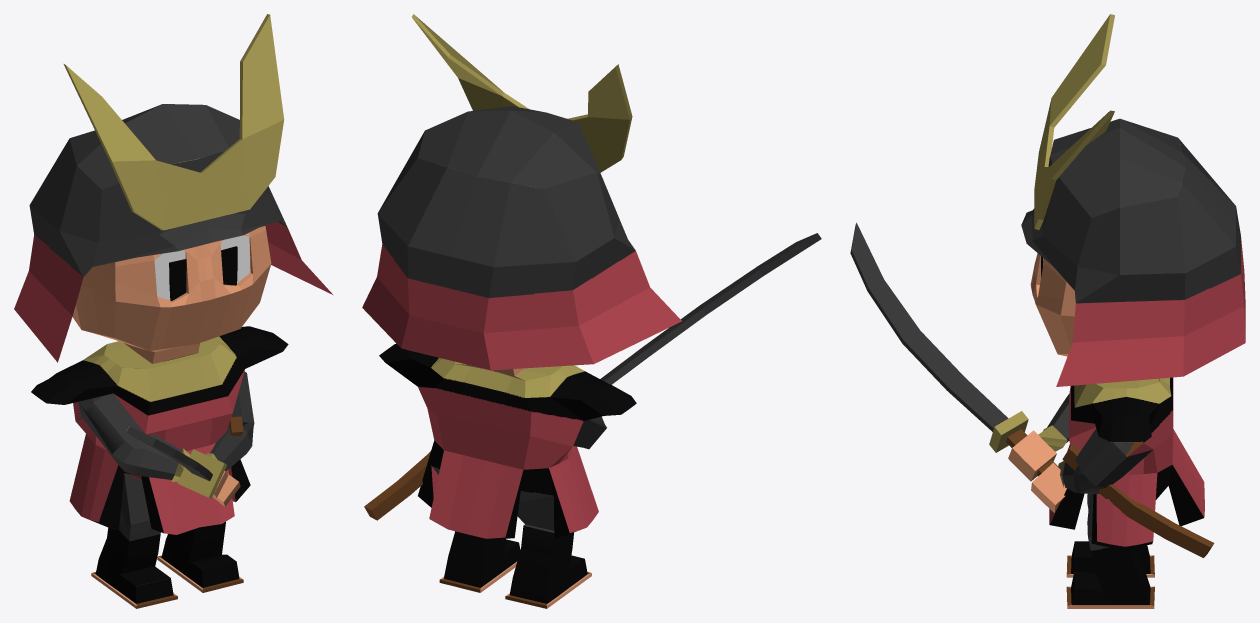
Rendered from samurai.obj.
3 views of the same model, side by side, from view 1: azimuth 30°, elevation 25°; view 2: azimuth 150°, elevation 25°; view 3: azimuth 270°, elevation 25° (orthographic). The views are drawn at different scales.
Visible parts, largest first — view 1: Cube.001; view 2: Cube.001; view 3: Cube.001.
Part boxes in pixels (box(x1,y1,x2,y2)): Cube.001: box(14, 14, 332, 608); Cube.001: box(362, 14, 821, 608); Cube.001: box(850, 14, 1245, 608).
Bounding box in the file's own units: 1.77 × 2.92 × 2.01.
Materials: 1 (1 with a texture image).
